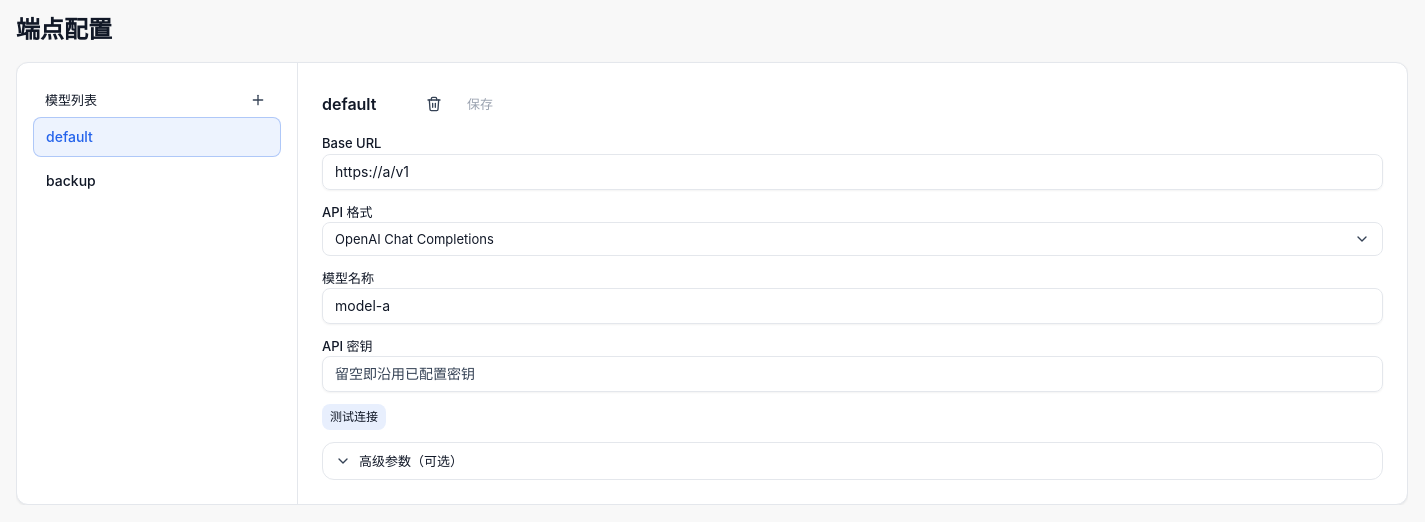
Test: SettingsPage · 连接·端点配置 › 改名保存：带 new_name 调 updateEndpoint，反馈与详情切到新名
Expected: the field labelled "Base URL" is shown, x1=322 y1=154 x2=1383 y2=190
Replace the text in the field named "配置名称" with "renamed" at {"x": 365, "y": 104}, box x1=317 y1=89 x2=413 y2=120
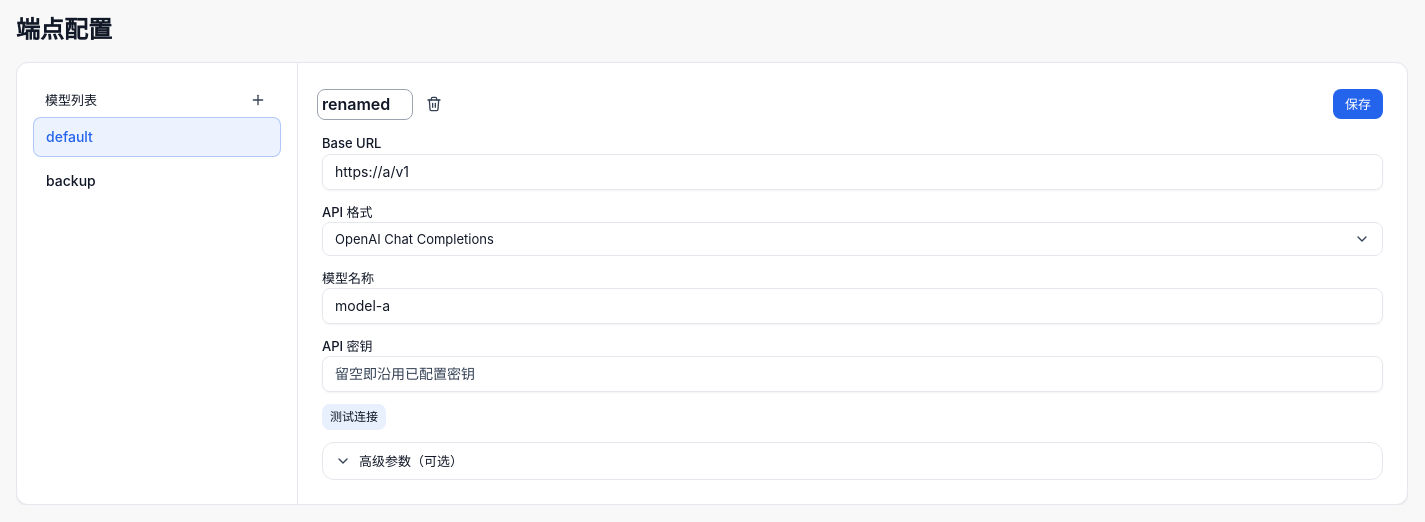
Click the button "保存" at {"x": 1358, "y": 104}, box x1=1333 y1=89 x2=1383 y2=119
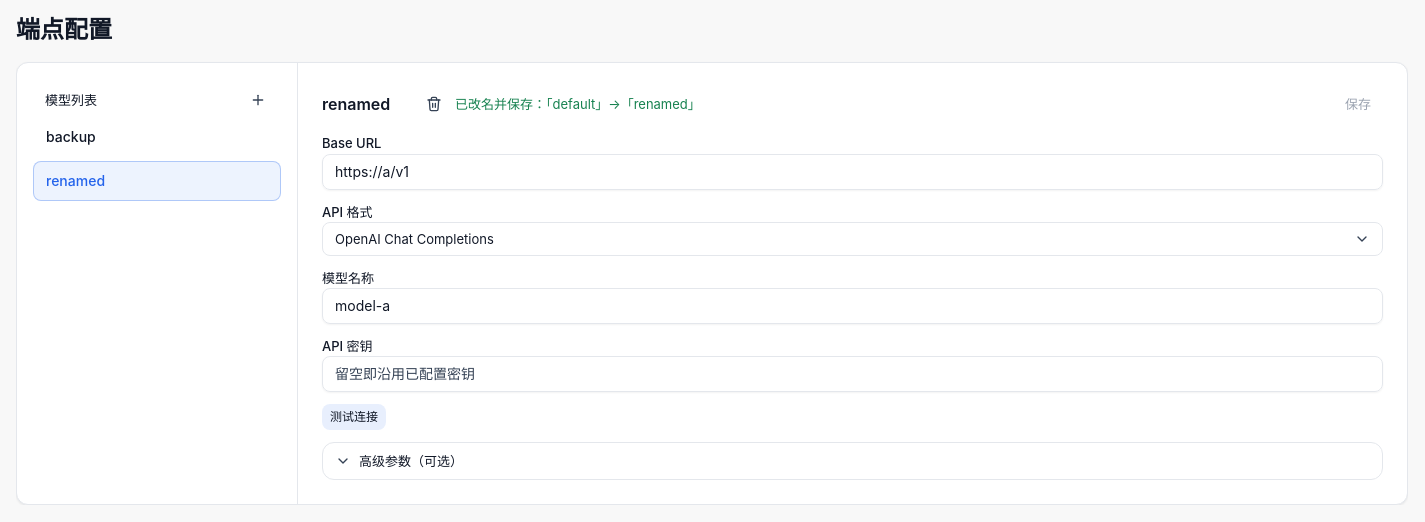
Expected: the text "已改名并保存：「default」→「renamed」" is shown, x1=455 y1=96 x2=701 y2=112
